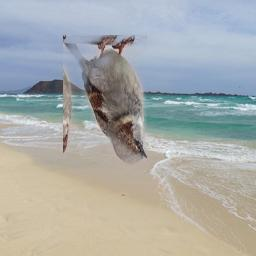Sparrow: (63, 35, 147, 165)
